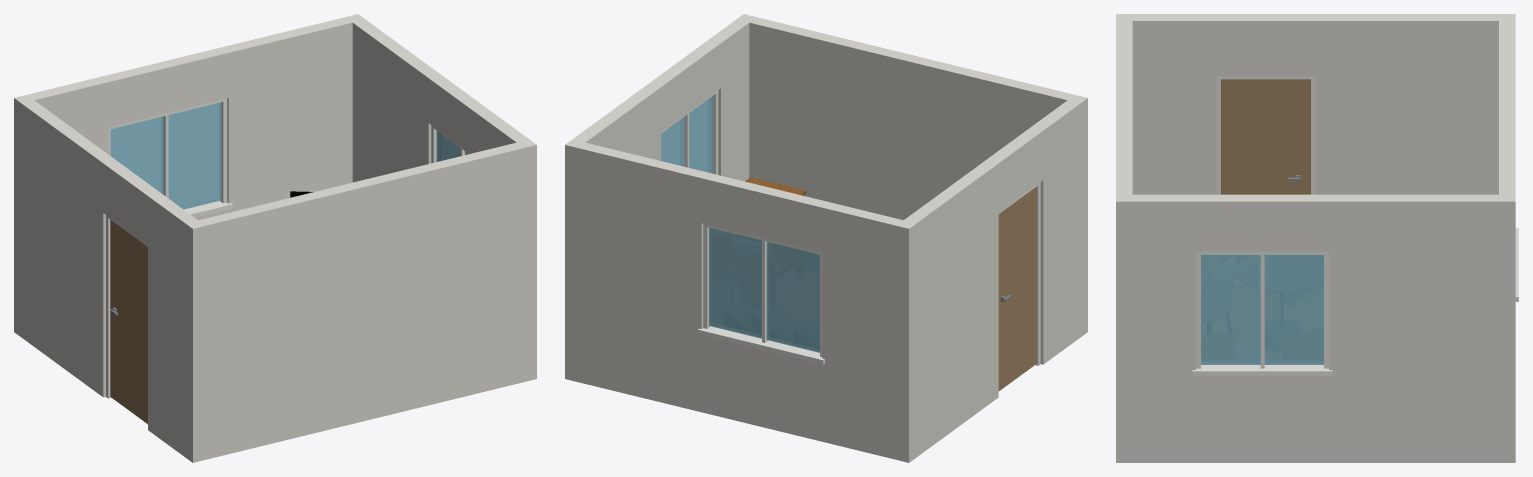
Rendered from layoutvlm.glb.
3 renders of one model, left to right at view 1: azimuth 30°, elevation 25°; view 2: azimuth 150°, elevation 25°; view 3: azimuth 270°, elevation 25°, orthographic. The views are drawn at different scales.
Parts seen in each view (by area): view 1: wall|scenesmith_057__R00|0, wall|scenesmith_057__R00|2, wall|scenesmith_057__R00|1, wall|scenesmith_057__R00|3, wall|scenesmith_057__R00|1 Window 0 | glazing, wall|scenesmith_057__R00|2 Door 0 | wood leaf, wall|scenesmith_057__R00|1 Window 0 | jamb, wall|scenesmith_057__R00|2 Door 0 | jamb; view 2: wall|scenesmith_057__R00|1, wall|scenesmith_057__R00|0, wall|scenesmith_057__R00|2, wall|scenesmith_057__R00|3, wall|scenesmith_057__R00|1 Window 0 | glazing, wall|scenesmith_057__R00|2 Door 0 | wood leaf, wall|scenesmith_057__R00|1 Window 0 | jamb, wall|scenesmith_057__R00|3 Window 0 | glazing, wall|scenesmith_057__R00|2 Door 0 | jamb, wall|scenesmith_057__R00|3 Window 0 | jamb; view 3: wall|scenesmith_057__R00|3, wall|scenesmith_057__R00|2, wall|scenesmith_057__R00|3 Window 0 | glazing, wall|scenesmith_057__R00|2 Door 0 | wood leaf, wall|scenesmith_057__R00|0, wall|scenesmith_057__R00|1, wall|scenesmith_057__R00|3 Window 0 | jamb, wall|scenesmith_057__R00|2 Door 0 | jamb.
Part boxes in pixels (box(x1,y1,x2,y2)): wall|scenesmith_057__R00|0: box(185, 142, 536, 462); wall|scenesmith_057__R00|2: box(14, 98, 205, 462); wall|scenesmith_057__R00|1: box(14, 17, 352, 220); wall|scenesmith_057__R00|3: box(345, 14, 536, 379); wall|scenesmith_057__R00|1 Window 0 | glazing: box(110, 102, 221, 209); wall|scenesmith_057__R00|2 Door 0 | wood leaf: box(110, 220, 147, 423); wall|scenesmith_057__R00|1 Window 0 | jamb: box(108, 98, 232, 217); wall|scenesmith_057__R00|2 Door 0 | jamb: box(106, 215, 147, 398); wall|scenesmith_057__R00|1: box(578, 142, 916, 459); wall|scenesmith_057__R00|0: box(749, 17, 1087, 220); wall|scenesmith_057__R00|2: box(896, 98, 1087, 462); wall|scenesmith_057__R00|3: box(565, 14, 756, 381); wall|scenesmith_057__R00|1 Window 0 | glazing: box(709, 227, 819, 352); wall|scenesmith_057__R00|2 Door 0 | wood leaf: box(998, 187, 1036, 391); wall|scenesmith_057__R00|1 Window 0 | jamb: box(697, 223, 824, 364); wall|scenesmith_057__R00|3 Window 0 | glazing: box(661, 96, 712, 173); wall|scenesmith_057__R00|2 Door 0 | jamb: box(998, 182, 1040, 365); wall|scenesmith_057__R00|3 Window 0 | jamb: box(661, 90, 718, 174); wall|scenesmith_057__R00|3: box(1116, 194, 1515, 462); wall|scenesmith_057__R00|2: box(1132, 14, 1498, 194); wall|scenesmith_057__R00|3 Window 0 | glazing: box(1201, 255, 1323, 364); wall|scenesmith_057__R00|2 Door 0 | wood leaf: box(1221, 79, 1310, 194); wall|scenesmith_057__R00|0: box(1116, 14, 1132, 462); wall|scenesmith_057__R00|1: box(1499, 14, 1515, 462); wall|scenesmith_057__R00|3 Window 0 | jamb: box(1192, 252, 1332, 376); wall|scenesmith_057__R00|2 Door 0 | jamb: box(1216, 76, 1315, 194).
Size of the model in its own units: 4.03 by 2.61 by 3.63.
Materials: 16 (9 with a texture image).
